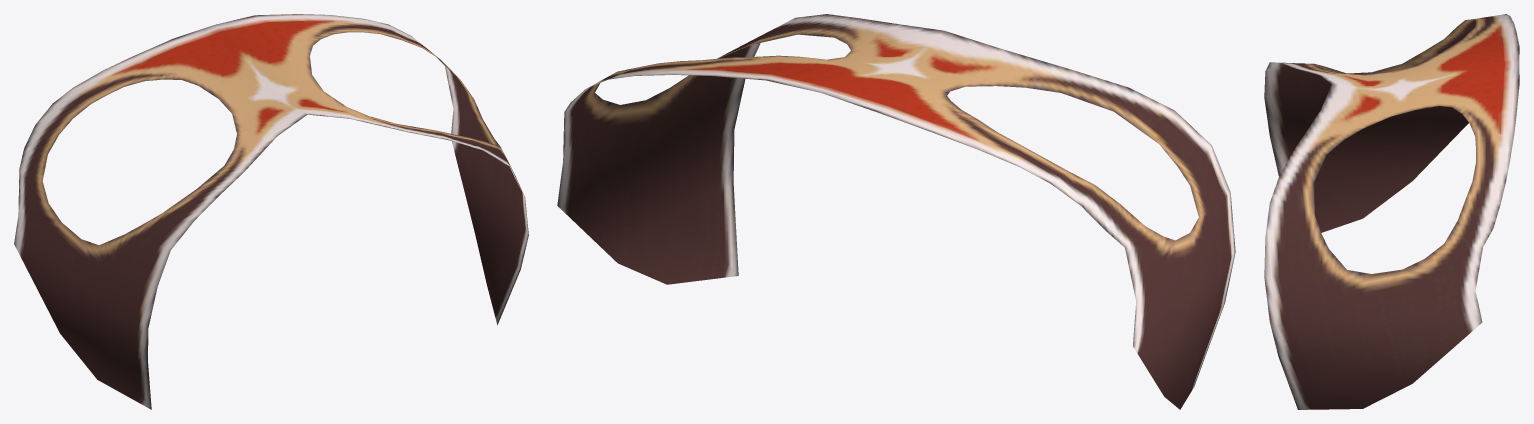
Rendered from ElCondorPasaMaskGround.fbx.
3 renders of one model, left to right at view 1: azimuth 30°, elevation 25°; view 2: azimuth 150°, elevation 25°; view 3: azimuth 270°, elevation 25°, orthographic. The views are drawn at different scales.
Visible parts, largest first — view 1: M_Mask; view 2: M_Mask; view 3: M_Mask.
Boxes of the visible parts, x1,y1,x2,y2 form: M_Mask: [14, 14, 528, 409]; M_Mask: [557, 14, 1235, 409]; M_Mask: [1264, 14, 1519, 409].
Bounding box in the file's own units: 0.0965 × 0.0553 × 0.0488.
